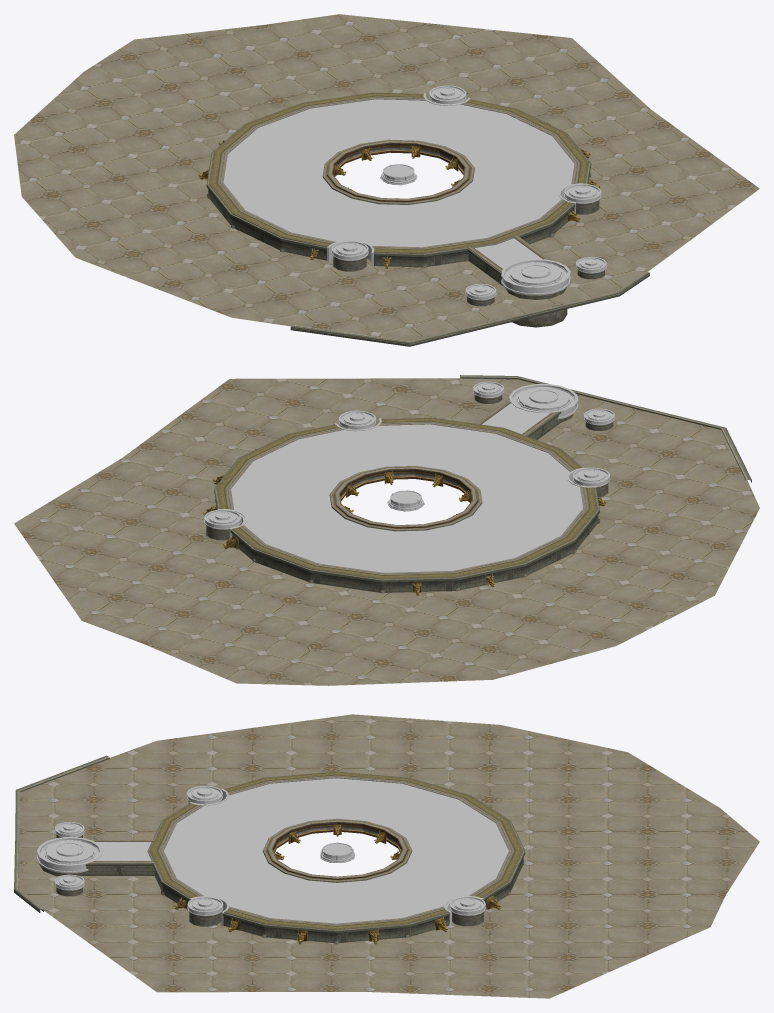
File: zc_zhongyang2.FBX
3 renders of one model, top to bottom at view 1: azimuth 30°, elevation 25°; view 2: azimuth 150°, elevation 25°; view 3: azimuth 270°, elevation 25°, orthographic. The views are drawn at different scales.
Parts seen in each view (by area): view 1: zc_gx_04, zc_gx_03, zc_gx_02, zc_gx_07, zc_gx_06, zc_gx_01, zc_gx_05; view 2: zc_gx_04, zc_gx_03, zc_gx_02, zc_gx_07, zc_gx_06, zc_gx_05, zc_gx_01; view 3: zc_gx_04, zc_gx_03, zc_gx_02, zc_gx_07, zc_gx_06, zc_gx_05, zc_gx_01.
Part boxes in pixels (x1,y1,x2,y2): zc_gx_04: (14,14,759,341); zc_gx_03: (223,99,574,268); zc_gx_02: (206,92,649,346); zc_gx_07: (327,85,606,300); zc_gx_06: (327,140,470,201); zc_gx_01: (333,200,604,327); zc_gx_05: (199,122,600,268); zc_gx_04: (14,378,759,685); zc_gx_03: (231,403,582,572); zc_gx_02: (214,375,751,593); zc_gx_07: (204,381,614,539); zc_gx_06: (334,466,477,528); zc_gx_05: (203,449,606,595); zc_gx_01: (206,395,613,540); zc_gx_04: (17,714,759,998); zc_gx_03: (95,778,508,923); zc_gx_02: (14,755,525,944); zc_gx_07: (37,786,485,926); zc_gx_06: (267,819,408,879); zc_gx_05: (174,811,501,944); zc_gx_01: (40,801,483,926).
Size of the model in its own units: 90.94 by 6.68 by 101.
